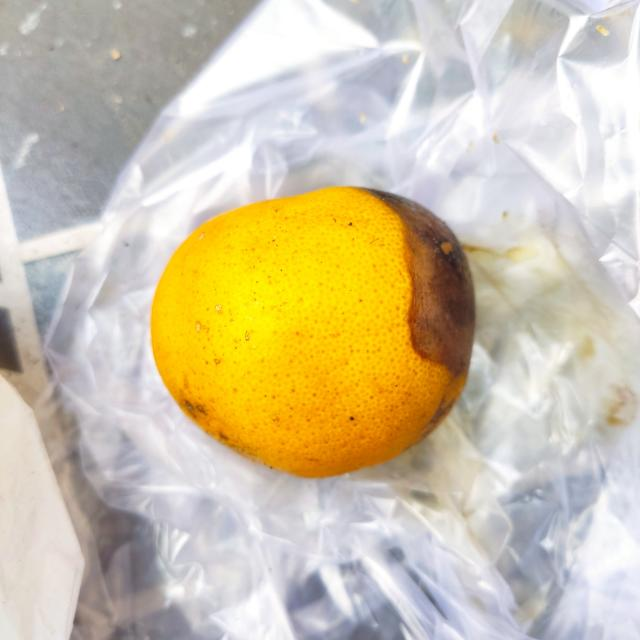orange: (144, 186, 478, 477)
